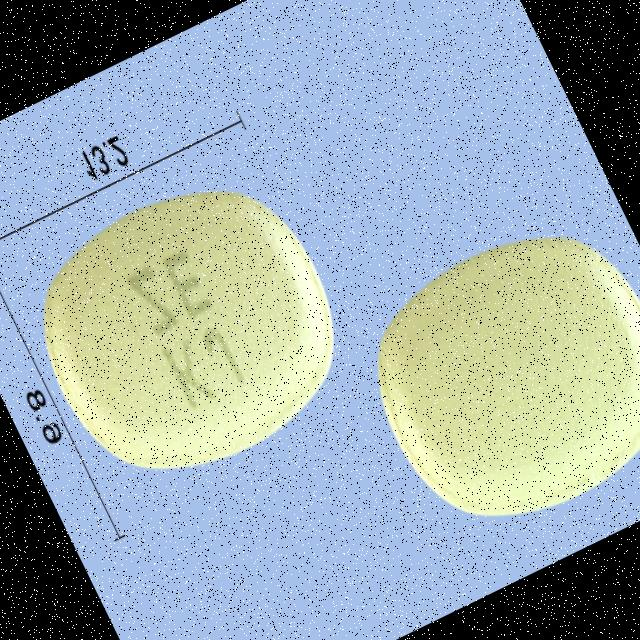Zecla Tab: (4, 150, 376, 512), (339, 198, 640, 556)
